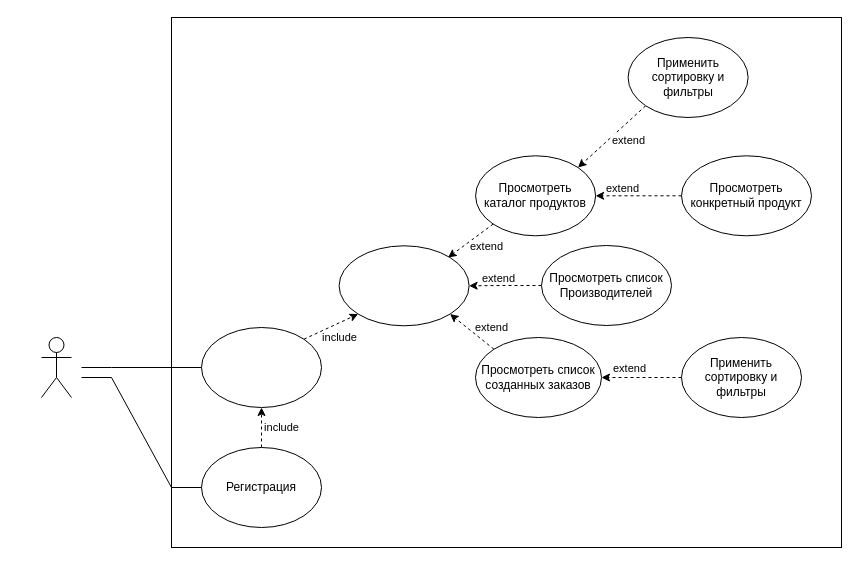
The diagram is 859 pixels wide and 565 high, and some of its shapes have lost their labels. Here are the shapes that lost their labels. From the top down, the centre of each, then its label:
At [403,285]: "Просмотреть доступные функции".
At [56,367]: "Пользователь".
At [261,367]: "Авторизация".
